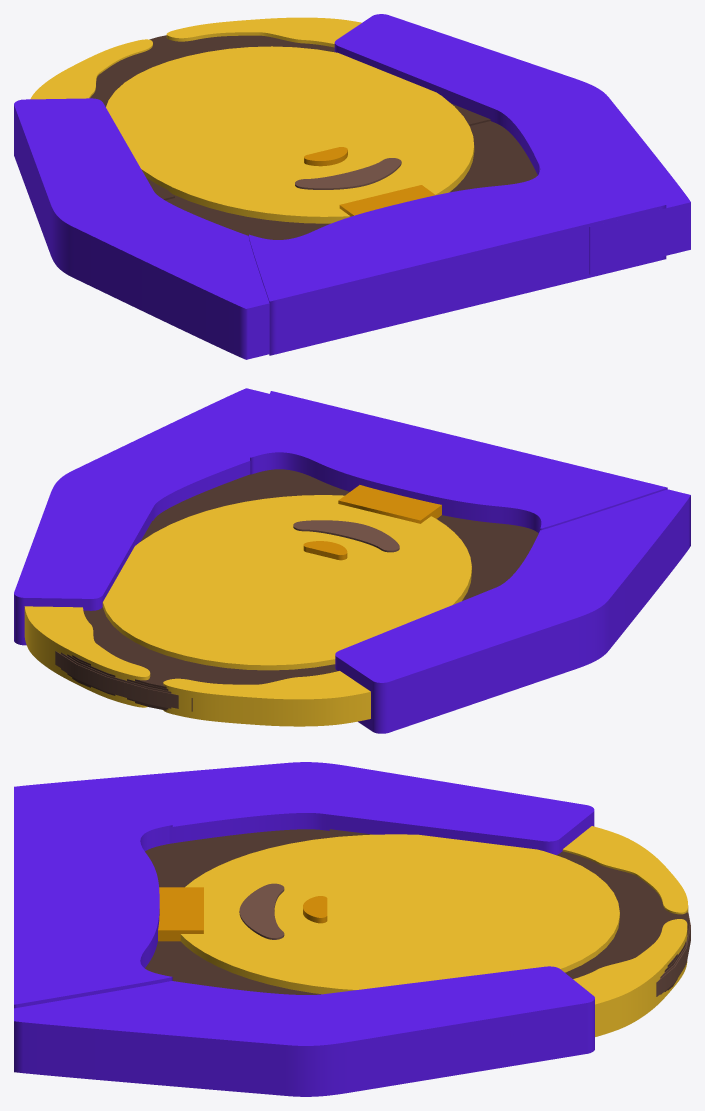
File: emoji_u1f646_200d_2640.glb
The picture shows the model from 3 angles, top to bottom: view 1: azimuth 30°, elevation 25°; view 2: azimuth 150°, elevation 25°; view 3: azimuth 270°, elevation 25°; orthographic projection. The views are drawn at different scales.
Visible parts, largest first — view 1: emoji_u1f646_200d_2640; view 2: emoji_u1f646_200d_2640; view 3: emoji_u1f646_200d_2640.
Part boxes in pixels (<box>): emoji_u1f646_200d_2640: <box>14,14,690,359</box>; emoji_u1f646_200d_2640: <box>14,388,690,733</box>; emoji_u1f646_200d_2640: <box>14,762,690,1096</box>.
Bounding box in the file's own units: 0.0333 × 0.0032 × 0.0337.
